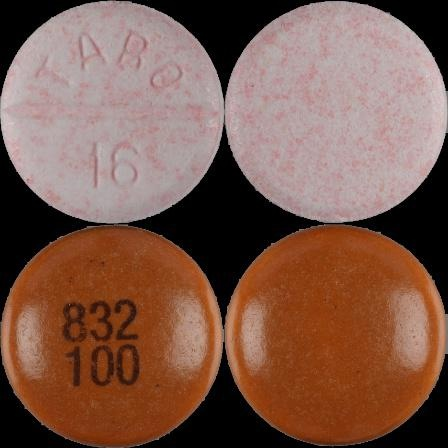24236-025: (0, 0, 224, 224)
